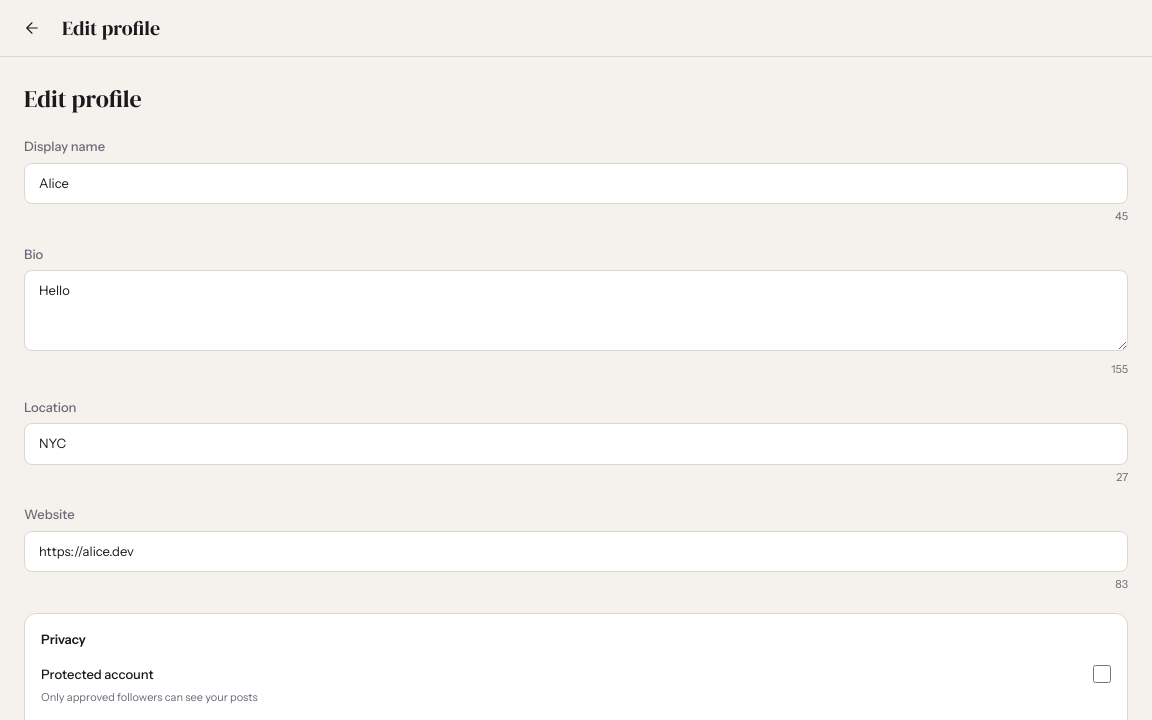
SettingsPage › shows error message on save failure
The width and height of the screenshot is (1152, 720).
Step 1. Replace the text in the field with test id "settings-display-name" with "Alice Updated" → (576, 183), box [24,162,1128,204]
(page scrolled)
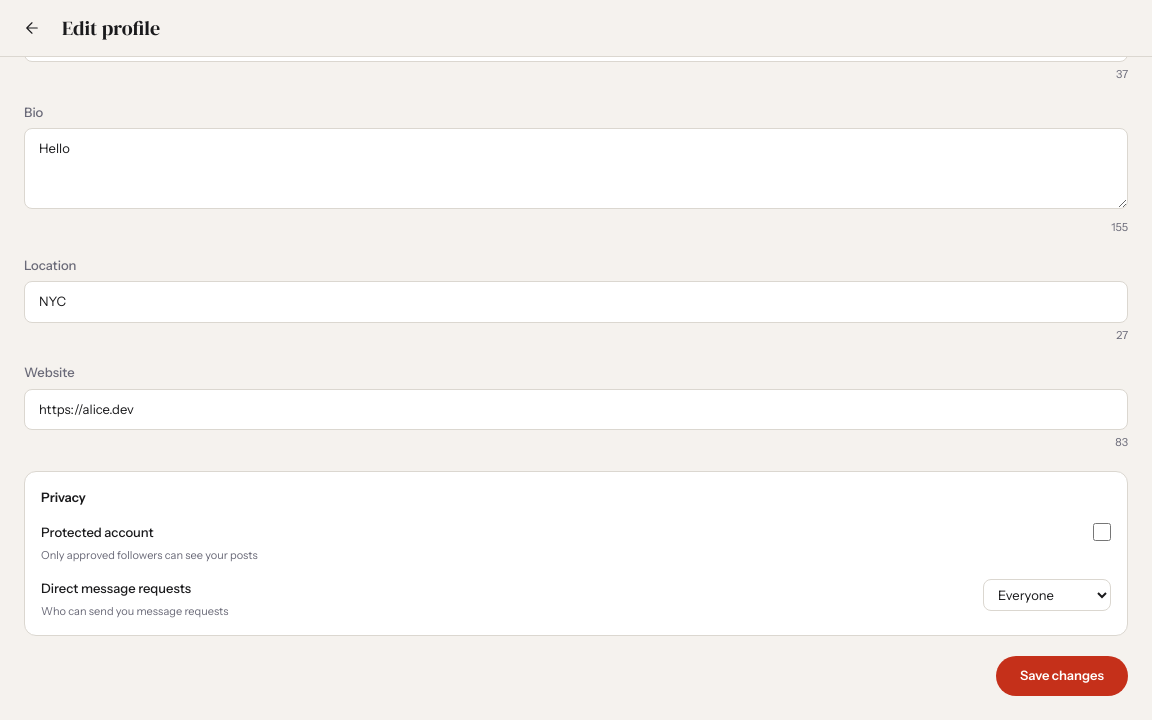
Step 2. Click the button with test id "settings-save-button" → click(1062, 676), box [996,656,1128,696]
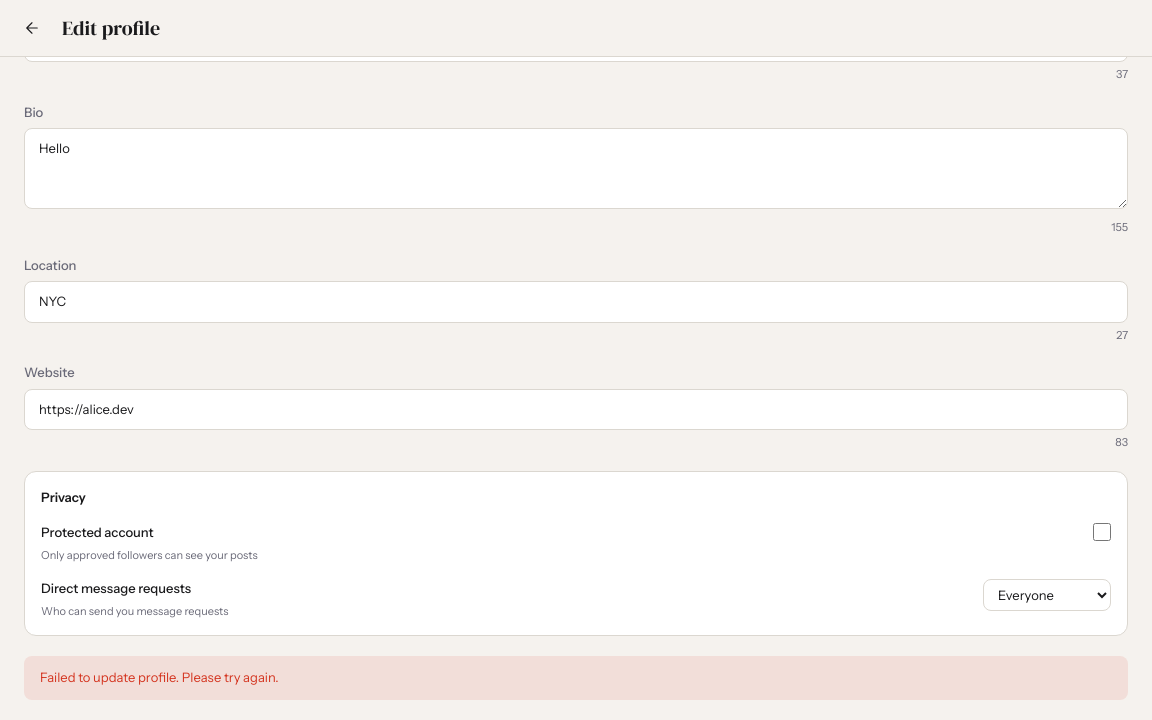
Now the message "Failed to update profile. Please try again." is shown, box [24,656,1128,700]
